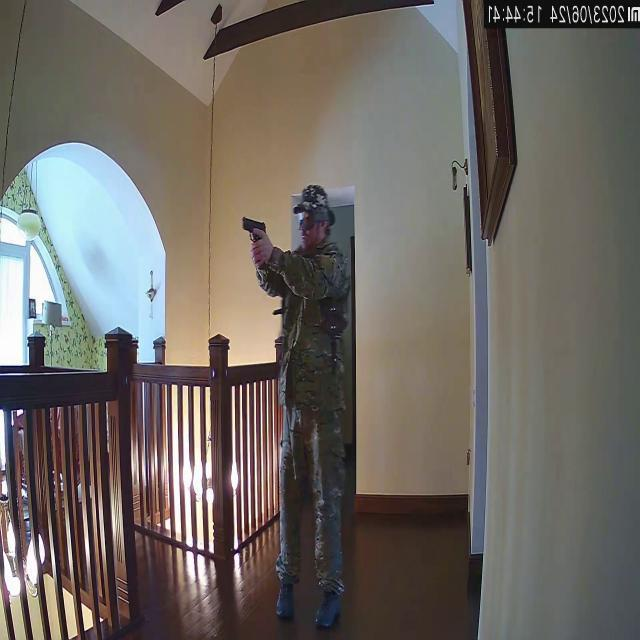pistol: (240, 212, 266, 245)
